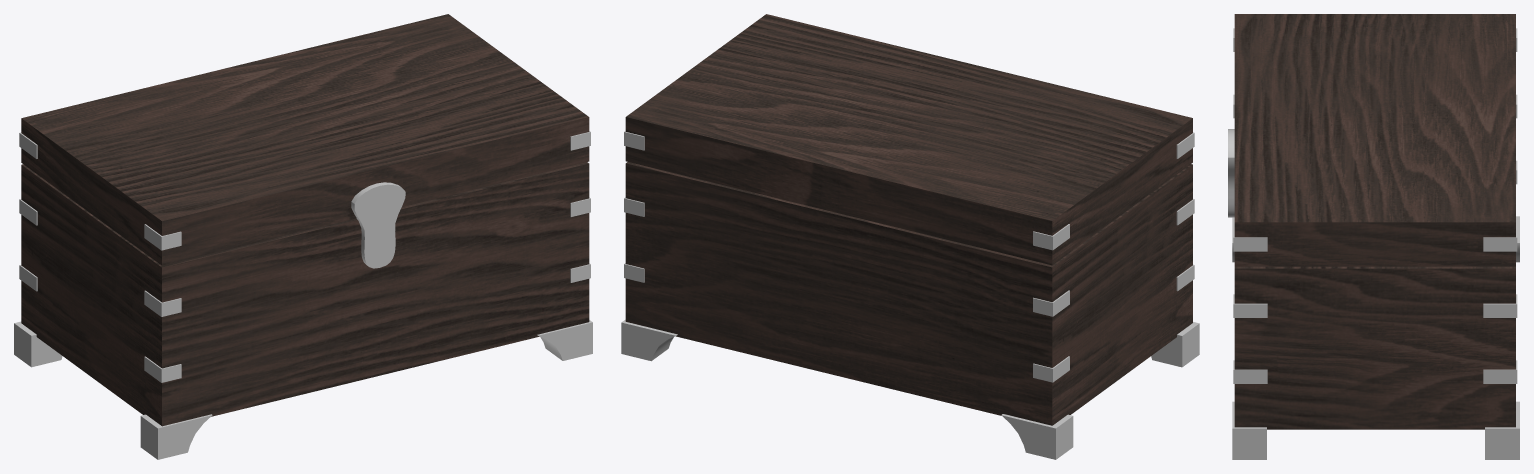
The model's file is boite.fbx.
3 renders of one model, left to right at view 1: azimuth 30°, elevation 25°; view 2: azimuth 150°, elevation 25°; view 3: azimuth 270°, elevation 25°, orthographic.
Visible parts, largest first — view 1: Cube.001; view 2: Cube.001; view 3: Cube.001.
Boxes of the visible parts, <box> form: Cube.001: <box>14,14,592,459</box>; Cube.001: <box>621,14,1199,459</box>; Cube.001: <box>1228,14,1519,459</box>.
Bounding box in the file's own units: 104 × 53.97 × 60.35.
